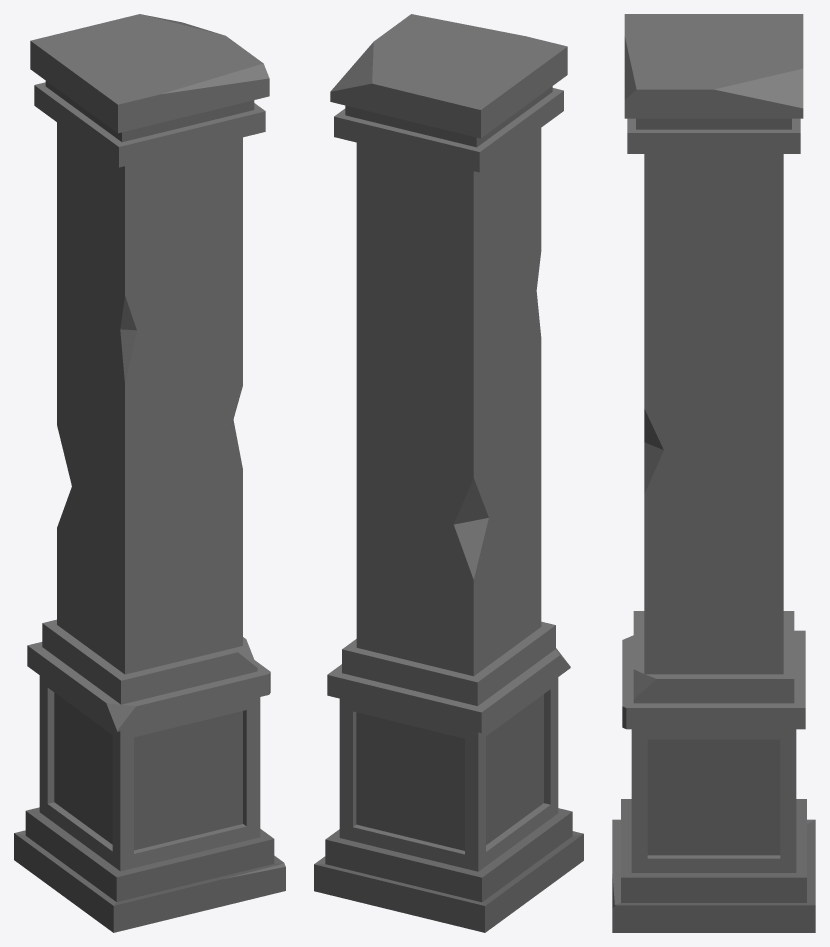
The model's file is Ruins_01.fbx.
3 renders of one model, left to right at view 1: azimuth 30°, elevation 25°; view 2: azimuth 150°, elevation 25°; view 3: azimuth 270°, elevation 25°, orthographic. The views are drawn at different scales.
Visible parts, largest first — view 1: Ruins_01_LOD0; view 2: Ruins_01_LOD0; view 3: Ruins_01_LOD0.
Boxes of the visible parts, x1,y1,x2,y2 form: Ruins_01_LOD0: [14, 14, 285, 932]; Ruins_01_LOD0: [314, 14, 583, 932]; Ruins_01_LOD0: [612, 14, 815, 932].
Size of what is drawn, in the model's own units: 0.5369 by 2.45 by 0.5369.
